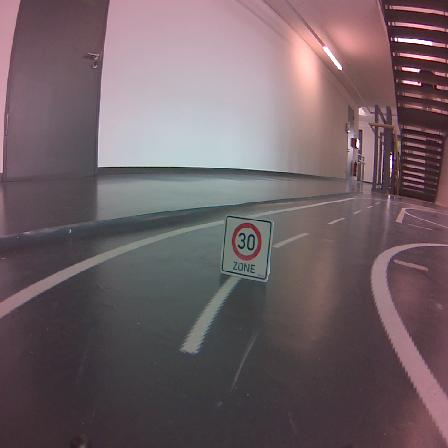30_ZONE_BEGIN: (221, 214, 274, 282)
